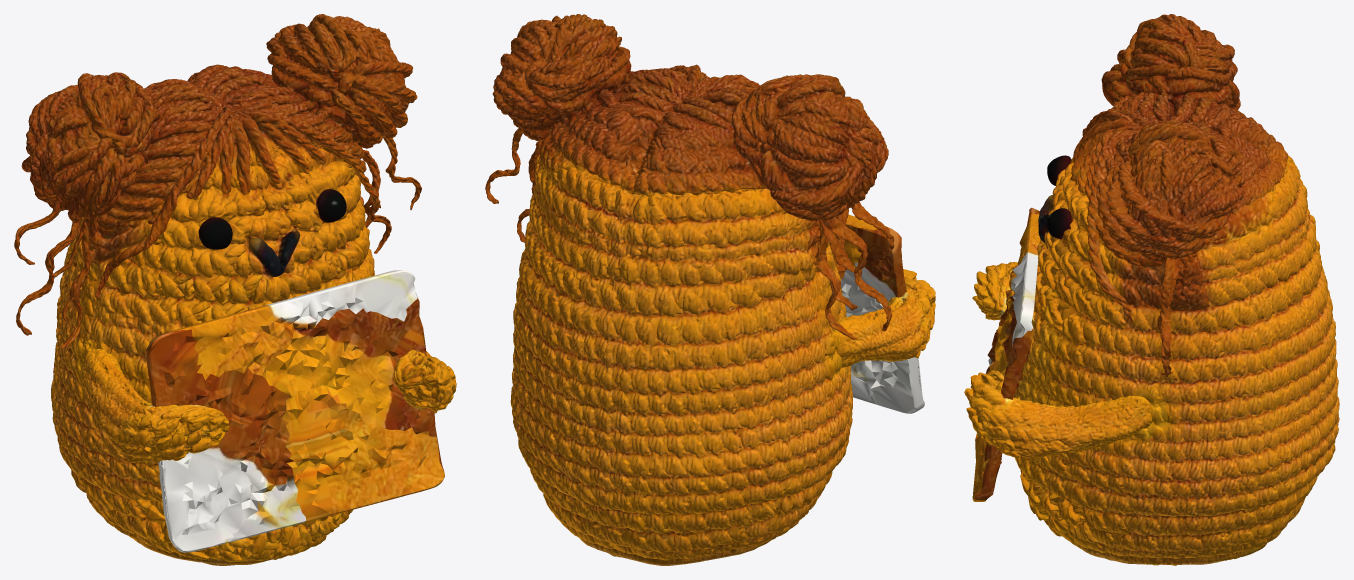
File: mochi.glb
3 views of the same model, side by side, from view 1: azimuth 30°, elevation 25°; view 2: azimuth 150°, elevation 25°; view 3: azimuth 270°, elevation 25° (orthographic). The views are drawn at different scales.
Visible parts, largest first — view 1: card, trim, body, handL, handR, eyeL, eyeR; view 2: body, trim, card, handL; view 3: body, trim, handR, card, handL, eyeR.
Part boxes in pixels (left/top/right/bottom): card: left=145, top=270, right=444, bottom=552; trim: left=14, top=14, right=421, bottom=335; body: left=51, top=142, right=391, bottom=565; handL: left=81, top=348, right=229, bottom=462; handR: left=394, top=349, right=456, bottom=413; eyeL: left=198, top=217, right=232, bottom=249; eyeR: left=316, top=189, right=346, bottom=222; body: left=510, top=139, right=857, bottom=565; trim: left=485, top=14, right=894, bottom=331; card: left=829, top=214, right=924, bottom=413; handL: left=836, top=269, right=935, bottom=367; body: left=1015, top=155, right=1339, bottom=565; trim: left=1071, top=14, right=1288, bottom=359; handR: left=964, top=370, right=1151, bottom=458; card: left=972, top=207, right=1041, bottom=501; handL: left=972, top=262, right=1017, bottom=320; eyeR: left=1047, top=208, right=1073, bottom=239.
Bounding box in the file's own units: 1.68 × 1.9 × 1.41.
Materials: 7 (7 with a texture image).
